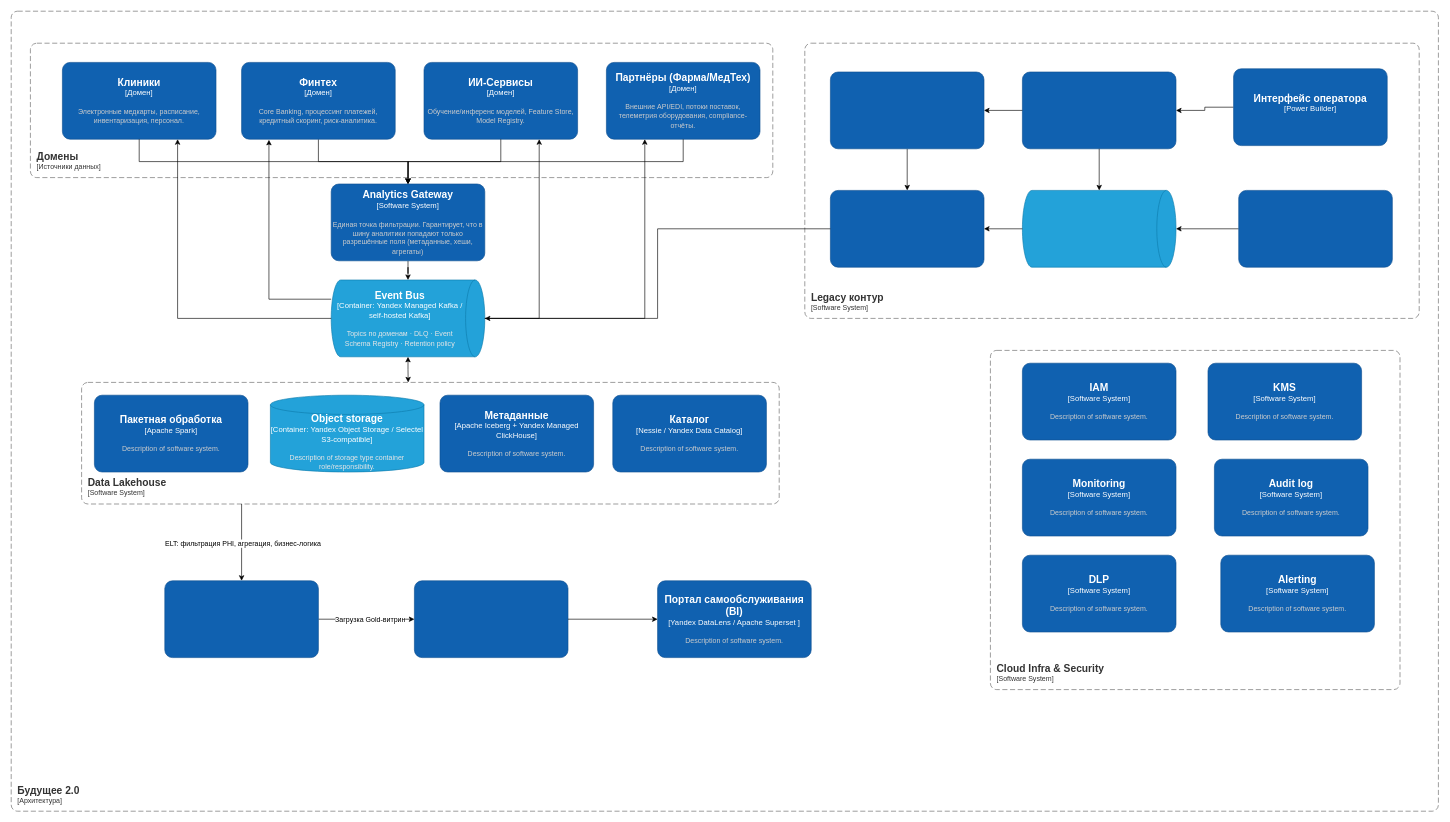
Image size: 1450x822. Some labels were removed from this diagram. The centre of each missing label's shape, as x and y in pixels:
"ACL [ESB - Kafka bridge] Anti-Corruption Layer" belongs at (x=907, y=228).
"BI система [Power BI] Description of software system." belongs at (x=1315, y=228).
"CDC [Debezium] Description of software system." belongs at (x=907, y=110).
"DWH [SQL сервер] Внутренняя медицинская система" belongs at (x=1099, y=110).
"ESB [Container: Apache Camel] Шина данных" belongs at (x=1099, y=228).
"Stream/Batch Processor [Flink/Spark/dbt] Description of software system." belongs at (x=241, y=619).
"Витрины [Clickhouse] Description of software system." belongs at (x=491, y=619).
